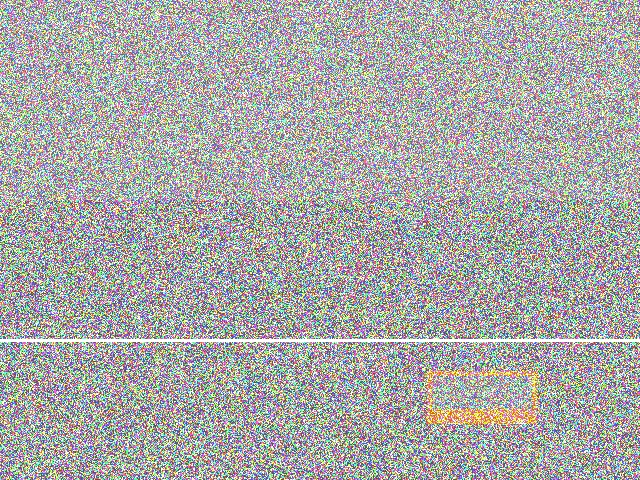bus: (123, 161, 266, 276)
motorcycle: (407, 238, 530, 374), (404, 144, 510, 273)
